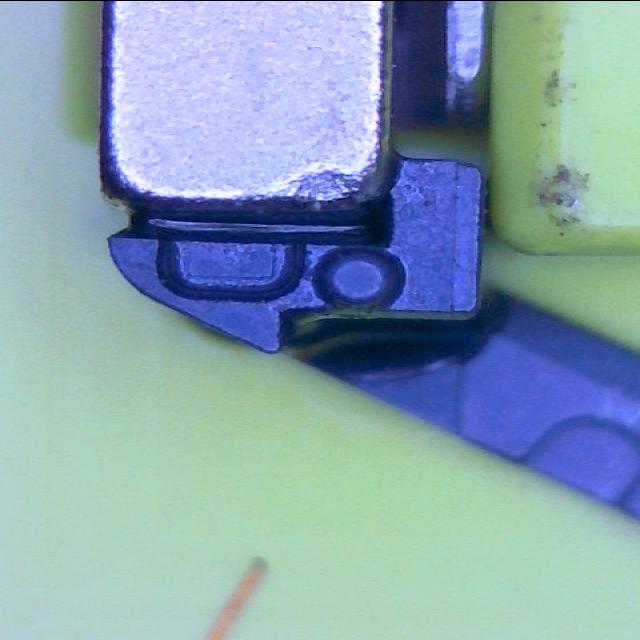good: (156, 230, 308, 300)
